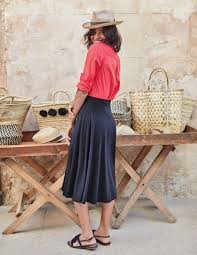C_skirt: (61, 89, 130, 219)
